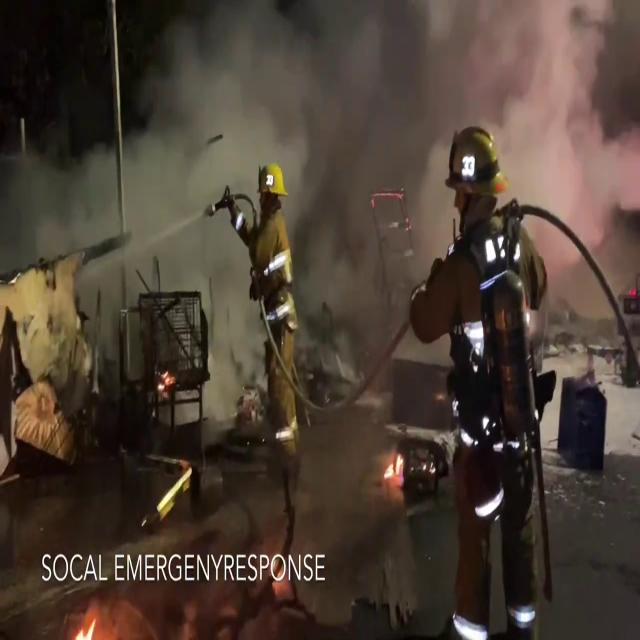Fire: (382, 443, 406, 489)
Smoke: (125, 0, 640, 278)
